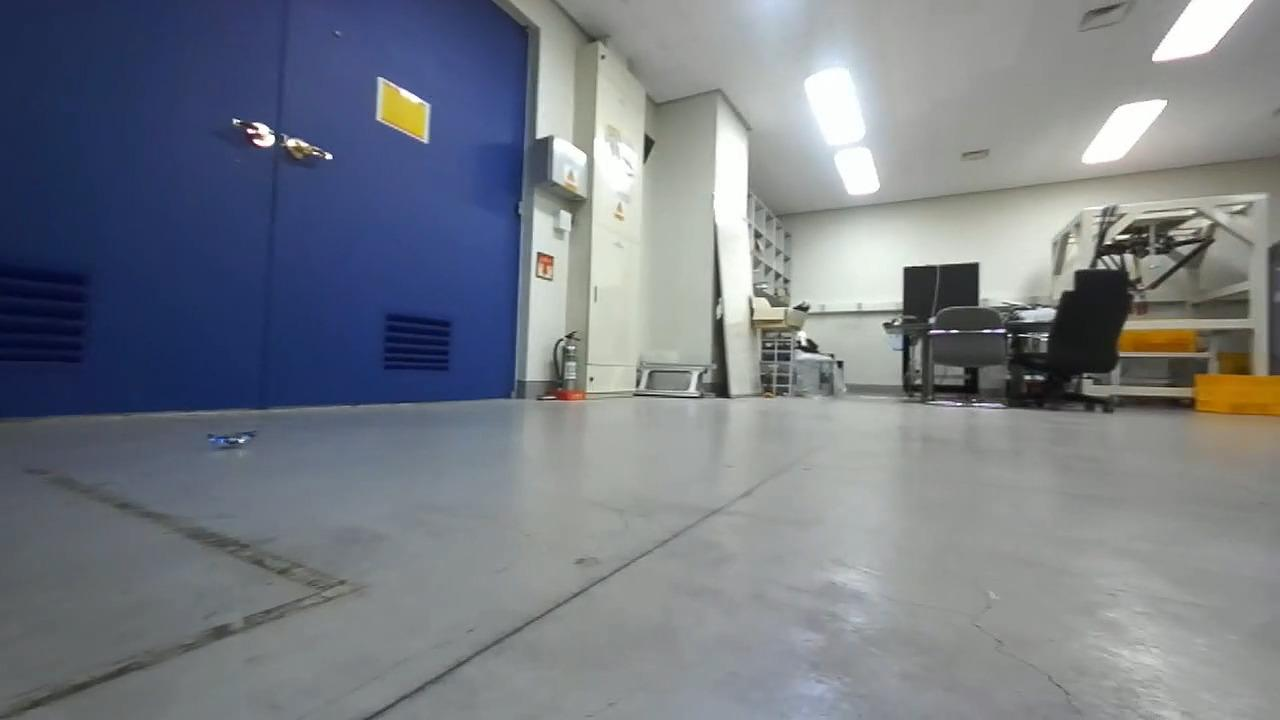crazyflie: (203, 425, 259, 453)
